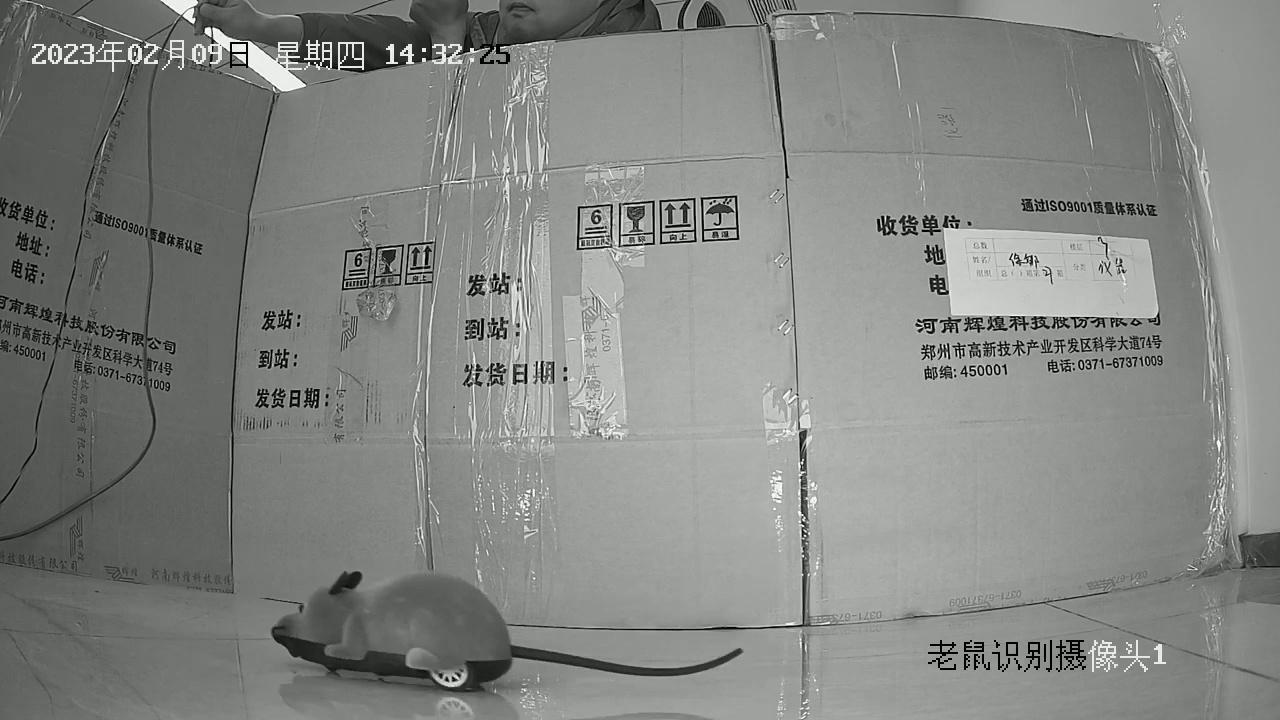rat: (271, 570, 745, 692)
